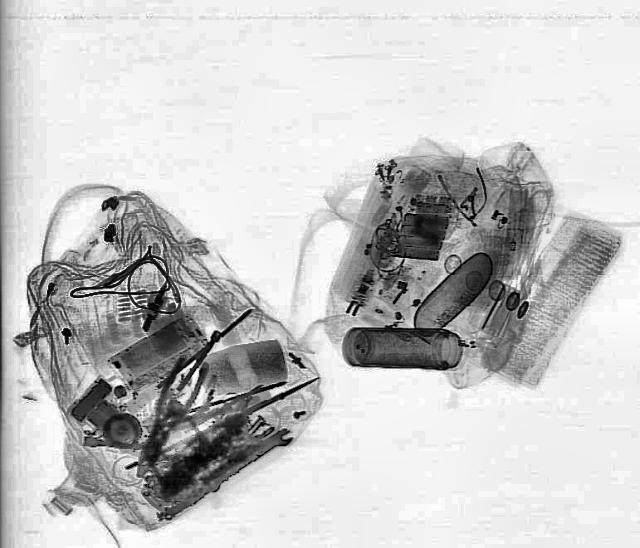Pliers: (120, 355, 210, 483)
Wrench: (155, 424, 297, 524)
